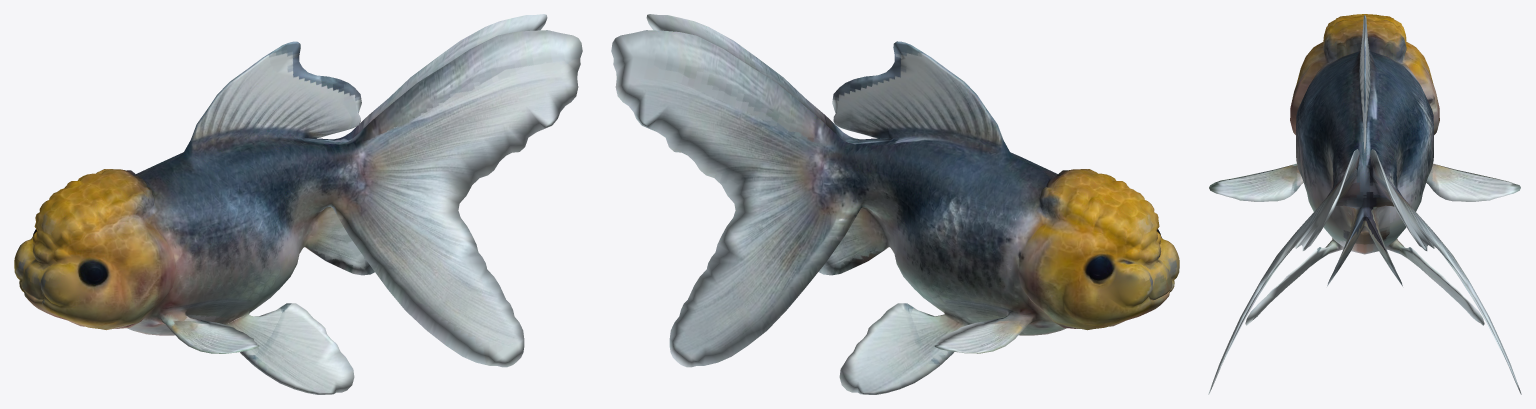
The model's file is fish.glb.
The picture shows the model from 3 angles, left to right: view 1: azimuth 30°, elevation 25°; view 2: azimuth 150°, elevation 25°; view 3: azimuth 270°, elevation 25°; orthographic projection.
Visible parts, largest first — view 1: fish; view 2: fish; view 3: fish.
Part boxes in pixels (x1,y1,x2,y2): fish: (14, 14, 582, 394); fish: (611, 14, 1179, 394); fish: (1208, 14, 1521, 394).
Size of the model in its own units: 0.12 by 0.0655 by 0.06.
Materials: 1 (1 with a texture image).
